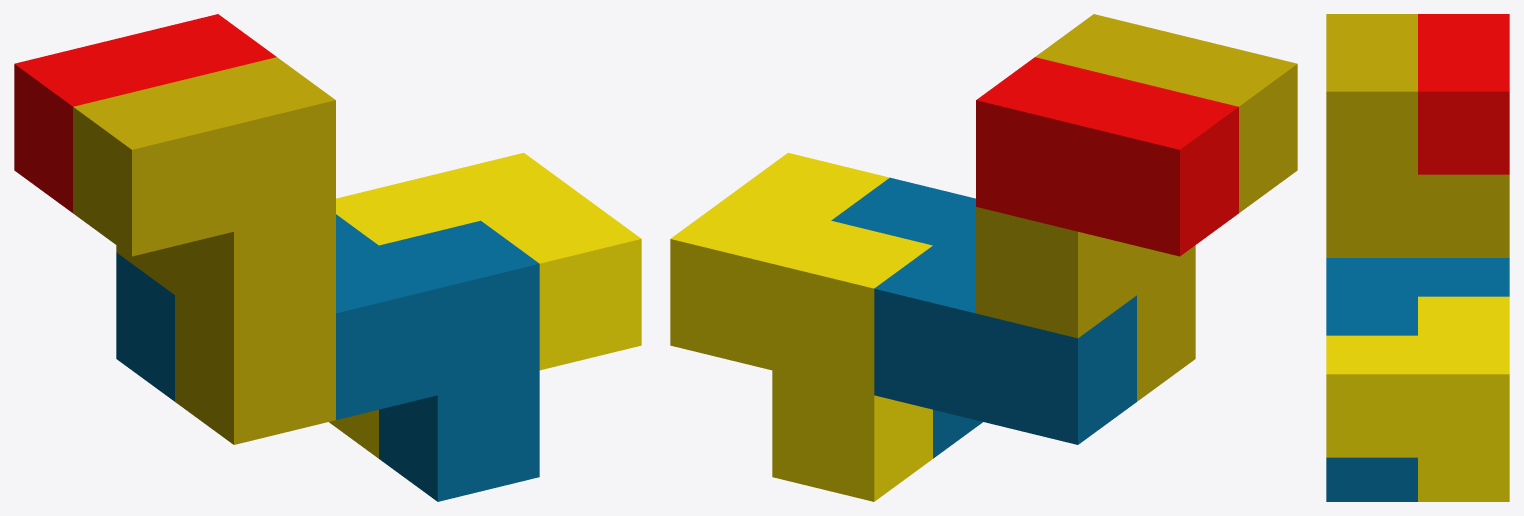
3 views of the same model, side by side, from view 1: azimuth 30°, elevation 25°; view 2: azimuth 150°, elevation 25°; view 3: azimuth 270°, elevation 25° (orthographic). The views are drawn at different scales.
Visible parts, largest first — view 1: mergedBlocks(Clone); view 2: mergedBlocks(Clone); view 3: mergedBlocks(Clone).
Boxes of the visible parts, bbox=[...] form: mergedBlocks(Clone): bbox=[14, 14, 641, 501]; mergedBlocks(Clone): bbox=[670, 14, 1297, 501]; mergedBlocks(Clone): bbox=[1326, 14, 1509, 501].
Size of the model in its own units: 5 by 4 by 2.
4 materials, 4 textured.
